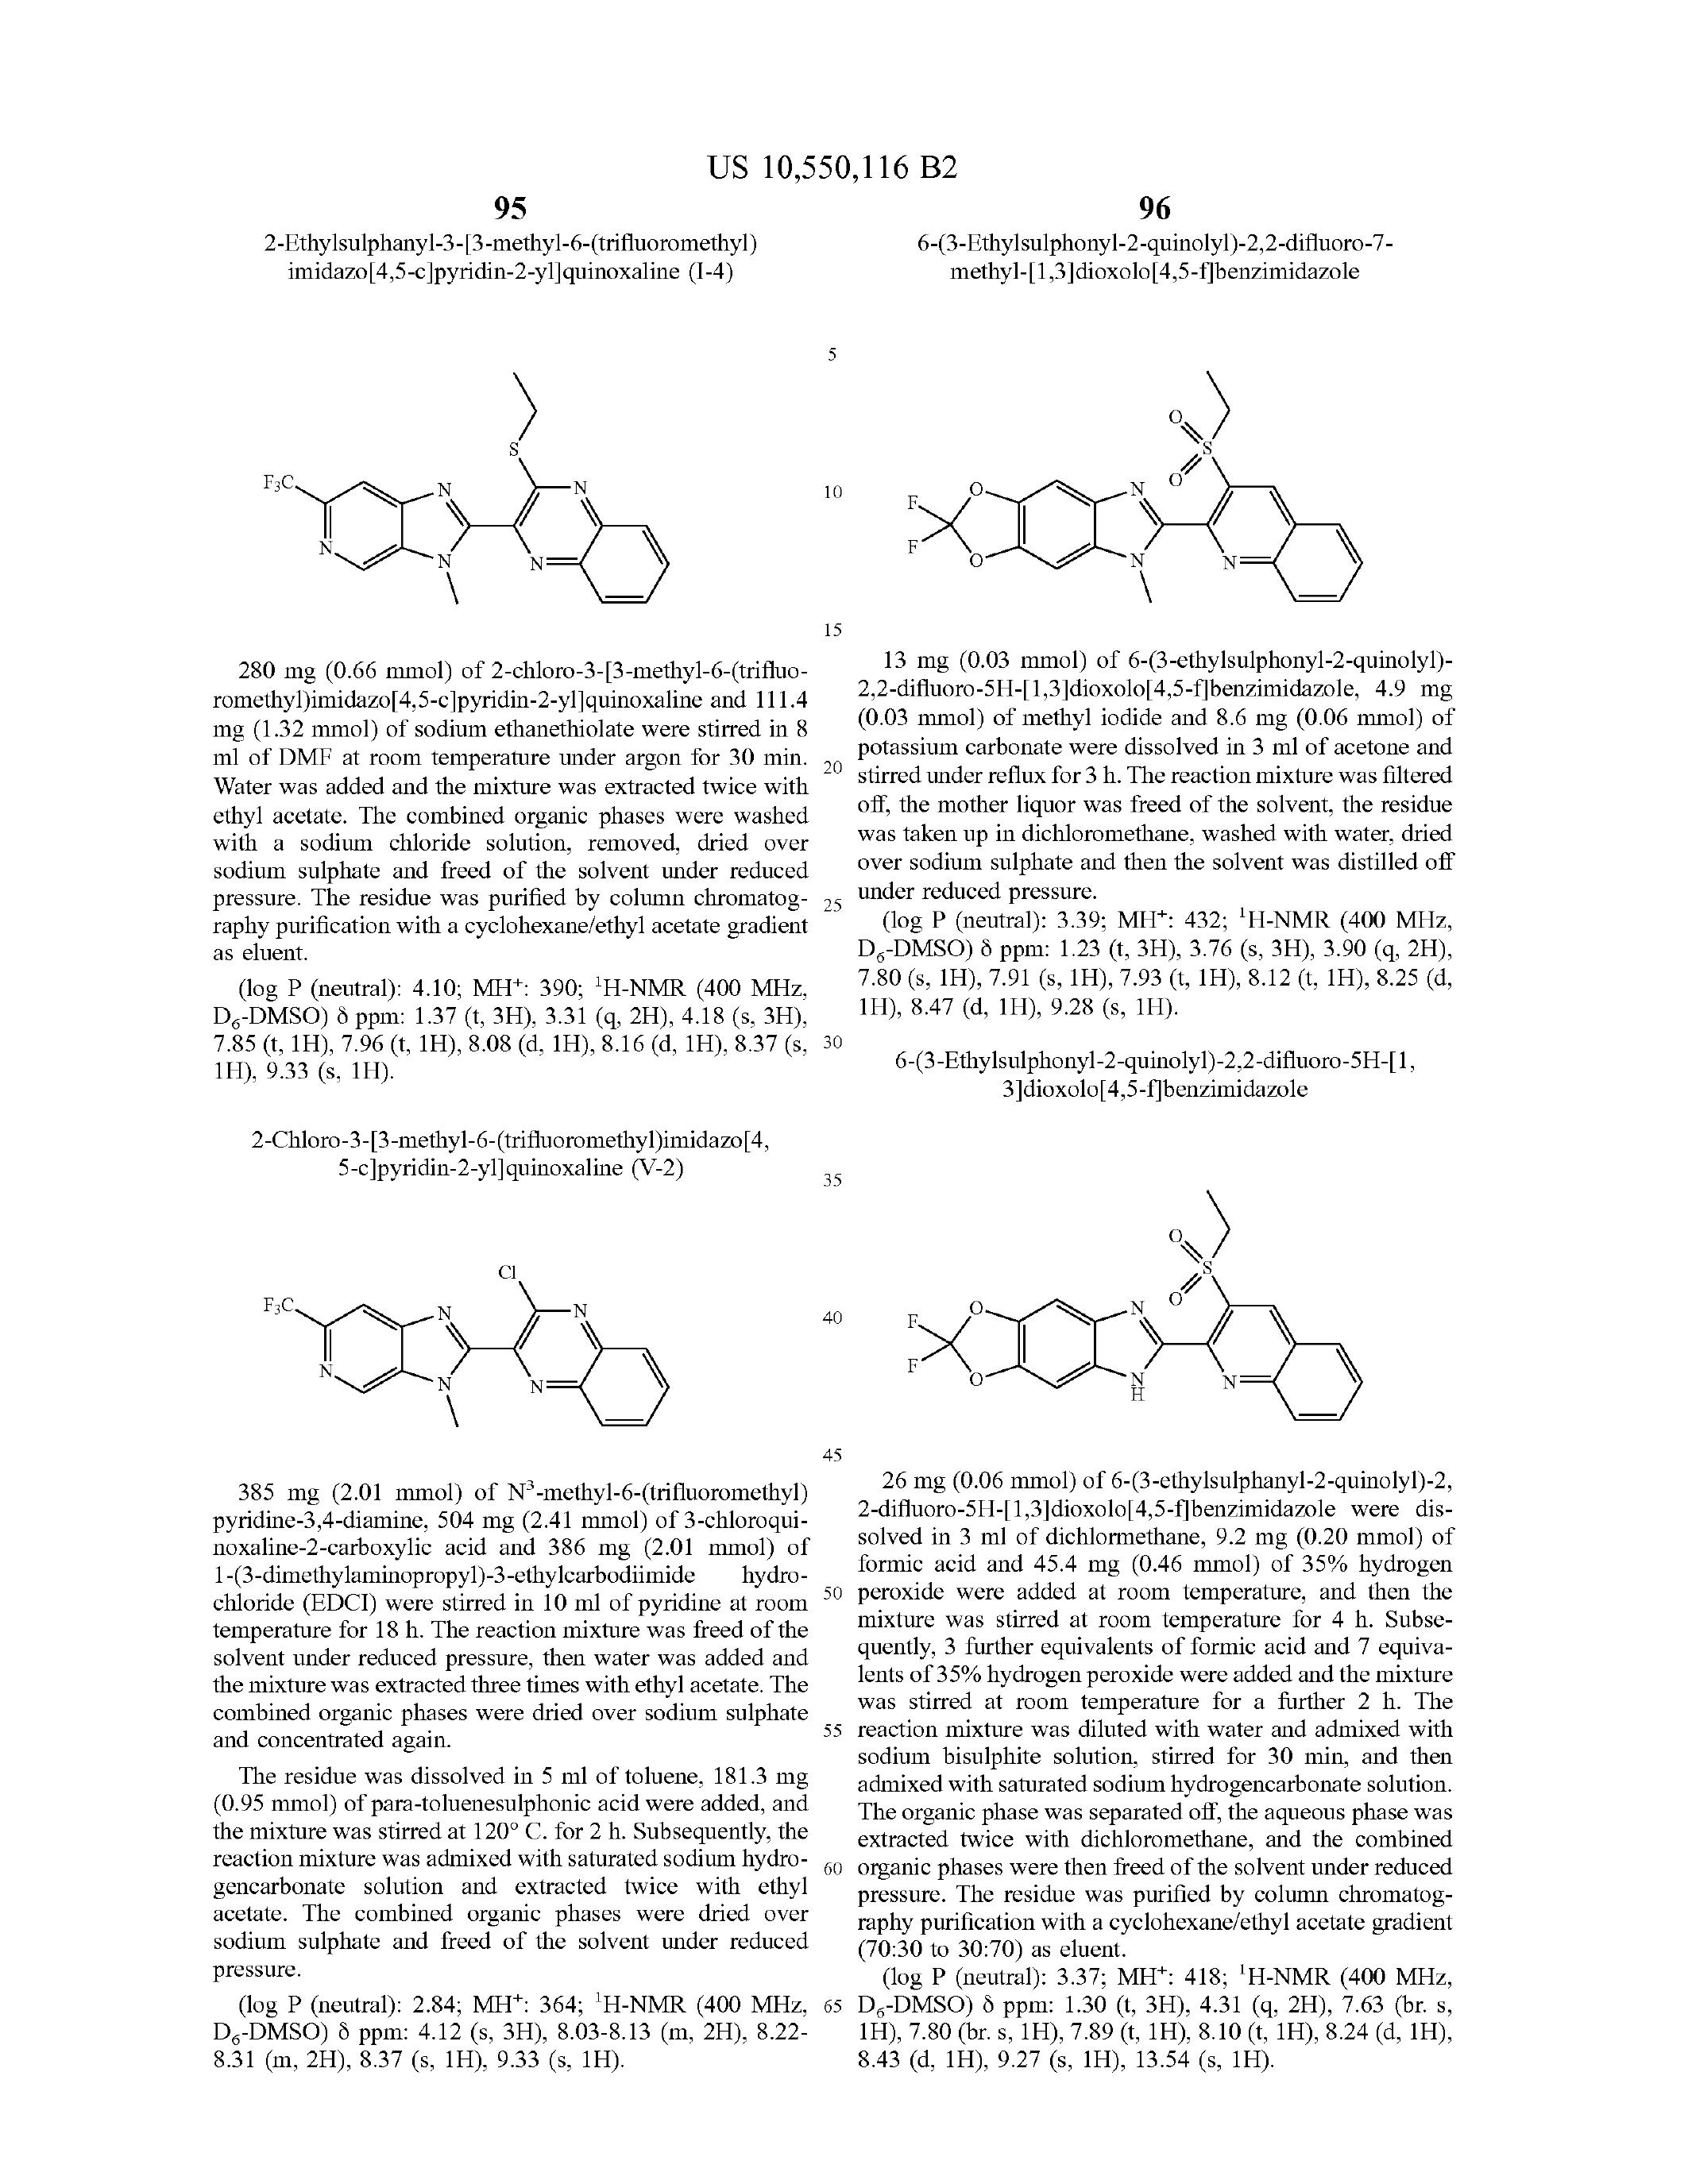relevant-structures: (849, 1154, 1422, 1441), (248, 344, 715, 645), (207, 1213, 716, 1484), (901, 360, 1406, 631)
